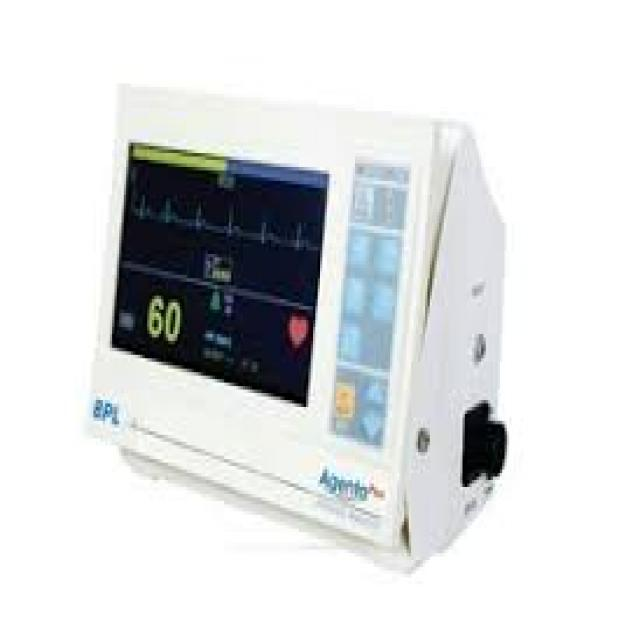cardiac_monitor: (113, 91, 483, 553)
